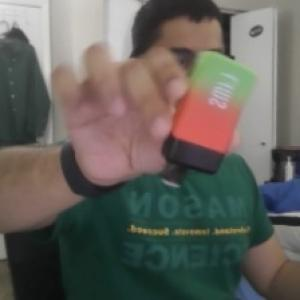Swift-E-Ciggirate: (158, 50, 258, 191)
